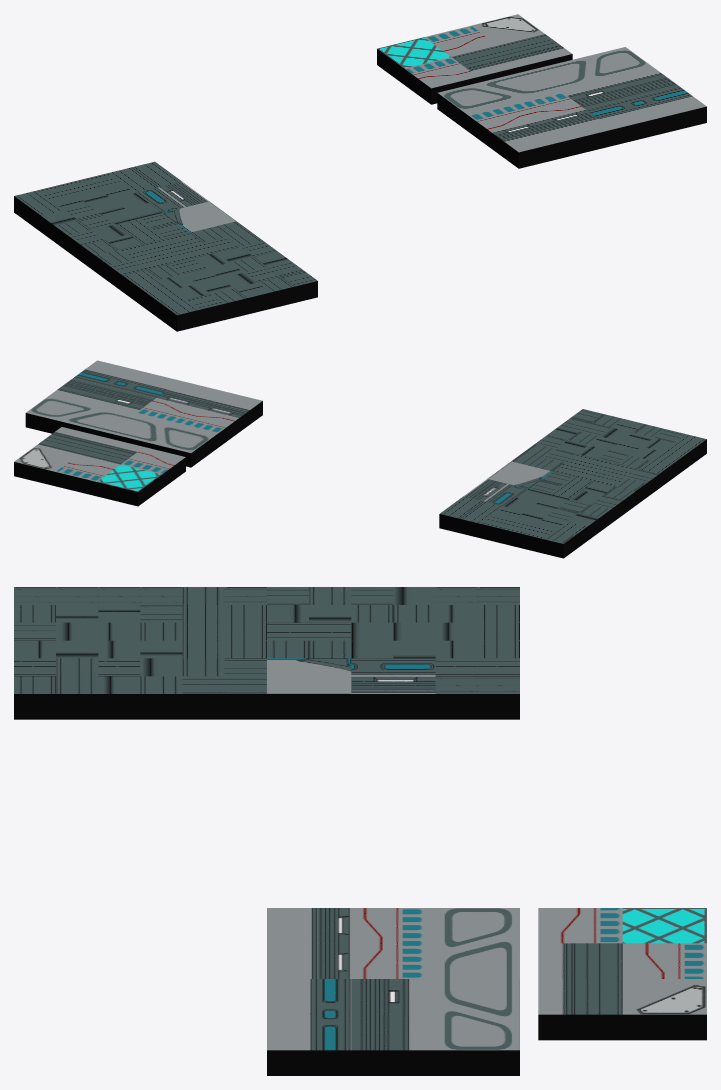
File: ENV_Structures_Ground_Tiles.fbx_Pack1.fbx
3 renders of one model, top to bottom at view 1: azimuth 30°, elevation 25°; view 2: azimuth 150°, elevation 25°; view 3: azimuth 270°, elevation 25°, orthographic. The views are drawn at different scales.
Visible parts, largest first — view 1: P1-M01, P1-M06, P1-M07, P1-16, P1-P04, P1-17, P1-18, P1-10, P1-07, P1-P01, P1-04, P1-13 (+19 smaller); view 2: P1-M01, P1-M06, P1-M07, P1-01, P1-P01, P1-P02, P1-03, P1-P03, P1-02, P1-10, P1-07, P1-04 (+19 smaller); view 3: P1-M01, P1-M07, P1-M06, P1-18, P1-03, P1-15, P1-12, P1-P06, P1-09, P1-06, P1-M05, P1-P03 (+19 smaller).
Part boxes in pixels (<box>): P1-M01: <box>437,47,652,128</box>; P1-M06: <box>491,109,612,168</box>; P1-M07: <box>586,86,706,145</box>; P1-16: <box>149,284,223,331</box>; P1-P04: <box>404,57,478,104</box>; P1-17: <box>197,272,270,320</box>; P1-18: <box>244,261,317,308</box>; P1-10: <box>95,244,169,291</box>; P1-07: <box>68,224,141,271</box>; P1-P01: <box>377,37,450,84</box>; P1-04: <box>41,204,114,251</box>; P1-13: <box>122,264,196,311</box>; P1-M01: <box>25,395,214,467</box>; P1-M06: <box>156,380,262,432</box>; P1-M07: <box>74,360,179,397</box>; P1-01: <box>522,516,587,558</box>; P1-P01: <box>96,464,161,506</box>; P1-P02: <box>55,454,120,496</box>; P1-03: <box>439,496,504,538</box>; P1-P03: <box>14,444,78,485</box>; P1-02: <box>481,506,545,548</box>; P1-10: <box>594,464,659,505</box>; P1-07: <box>570,481,635,523</box>; P1-04: <box>546,499,611,540</box>; P1-M01: <box>435,908,519,1075</box>; P1-M07: <box>267,979,351,1075</box>; P1-M06: <box>267,908,351,978</box>; P1-18: <box>14,658,98,719</box>; P1-03: <box>435,658,519,719</box>; P1-15: <box>98,658,182,719</box>; P1-12: <box>182,658,266,719</box>; P1-P06: <box>538,979,622,1040</box>; P1-09: <box>267,658,351,719</box>; P1-06: <box>351,658,435,719</box>; P1-M05: <box>351,1014,435,1075</box>; P1-P03: <box>622,979,706,1040</box>.
Bounding box in the file's own units: 3900 × 2466 × 100.
